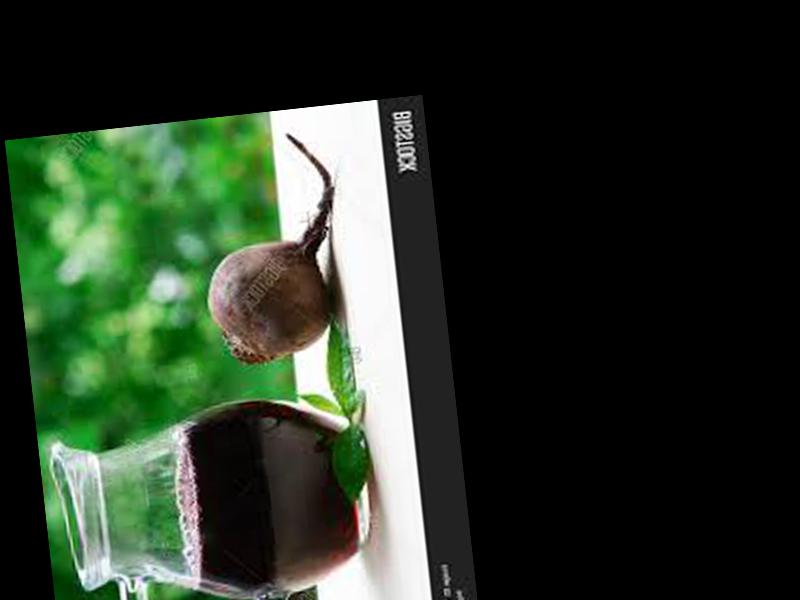Beet: (193, 131, 352, 366)
